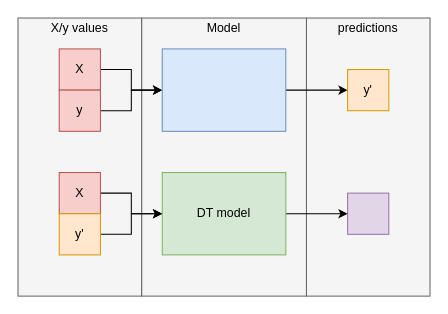
Image size: 448x314. Some labels were removed from this diagram. The centre of each missing label's shape, as x and y in pixels:
NN model: the point at 223,89
y'': the point at 368,213
